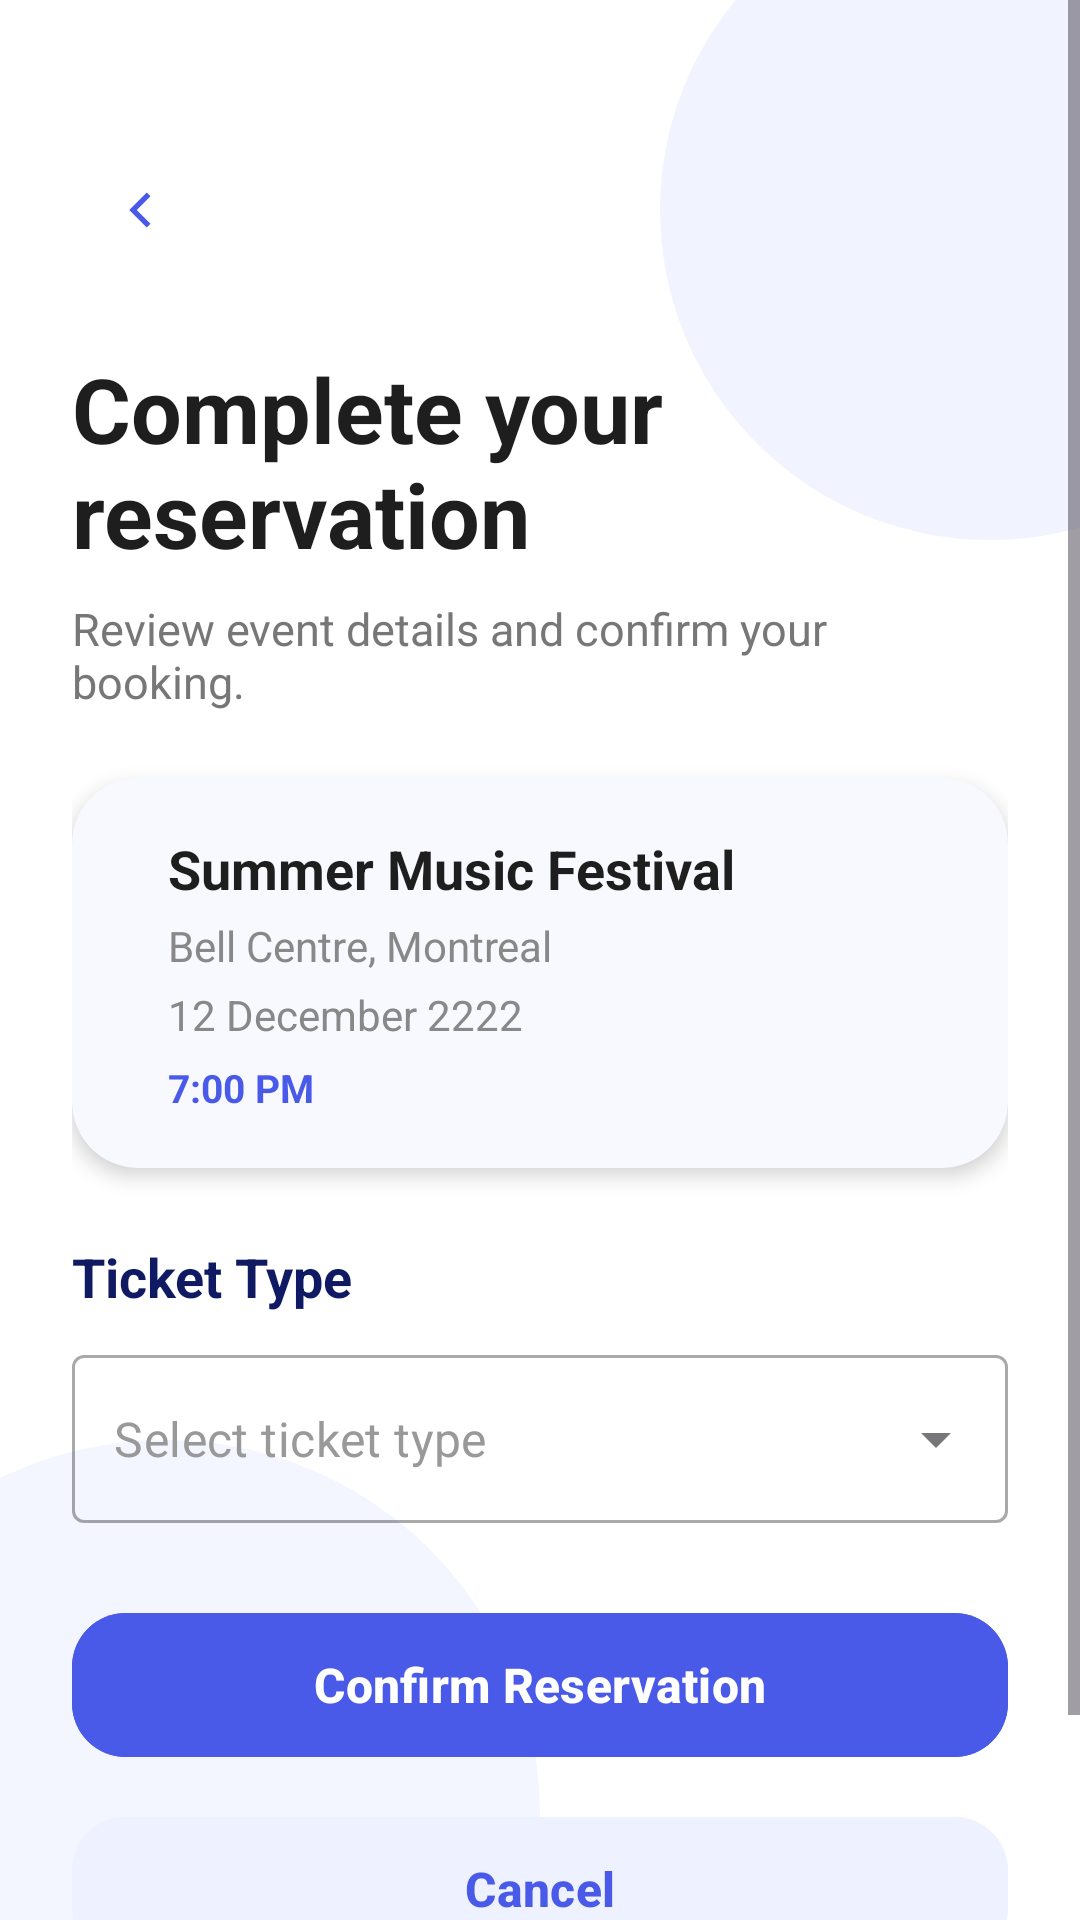

Named icons in this screenshot (1080x1920) and their centers, (x=x, y=y):
Back: (x=140, y=210)
